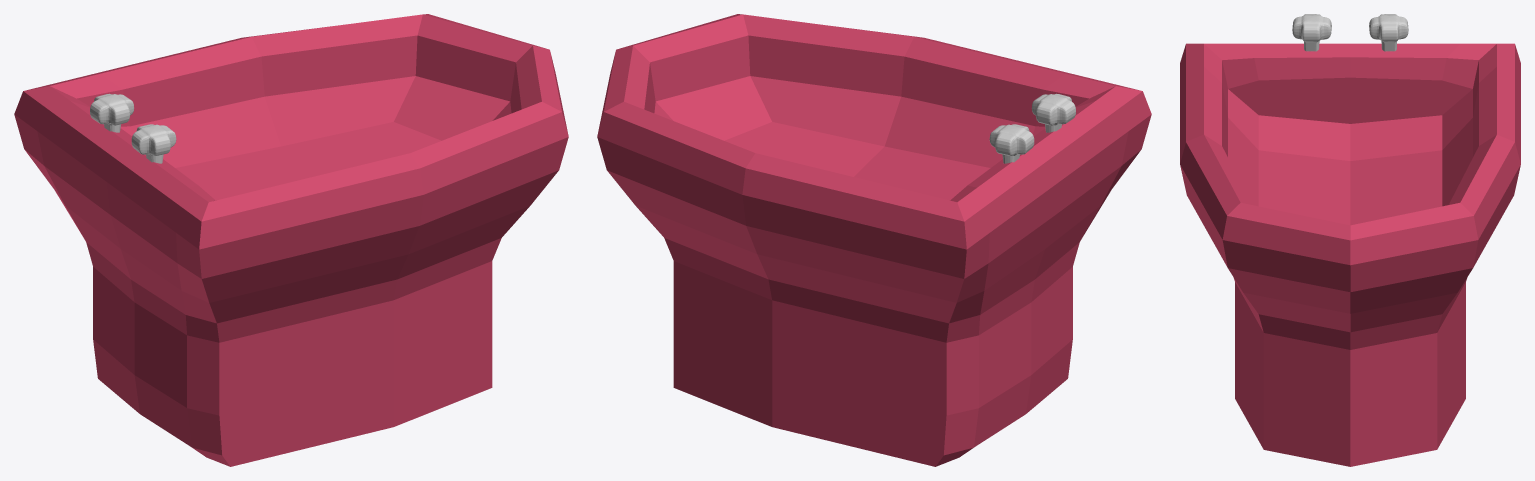
Rendered from Bidet.fbx.
3 views of the same model, side by side, from view 1: azimuth 30°, elevation 25°; view 2: azimuth 150°, elevation 25°; view 3: azimuth 270°, elevation 25° (orthographic). The views are drawn at different scales.
Visible parts, largest first — view 1: Bidet; view 2: Bidet; view 3: Bidet.
Boxes of the visible parts, x1,y1,x2,y2 form: Bidet: (14,14,568,466); Bidet: (597,14,1151,466); Bidet: (1180,14,1520,466).
Bounding box in the file's own units: 1.43 × 0.9636 × 1.02.
